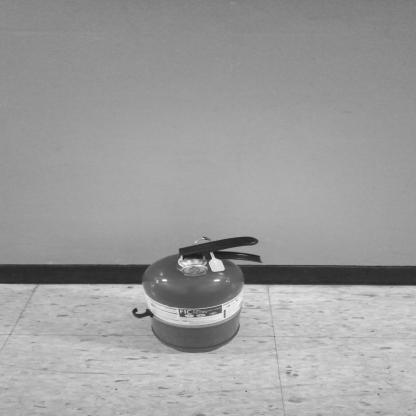FE: (144, 236, 259, 353)
